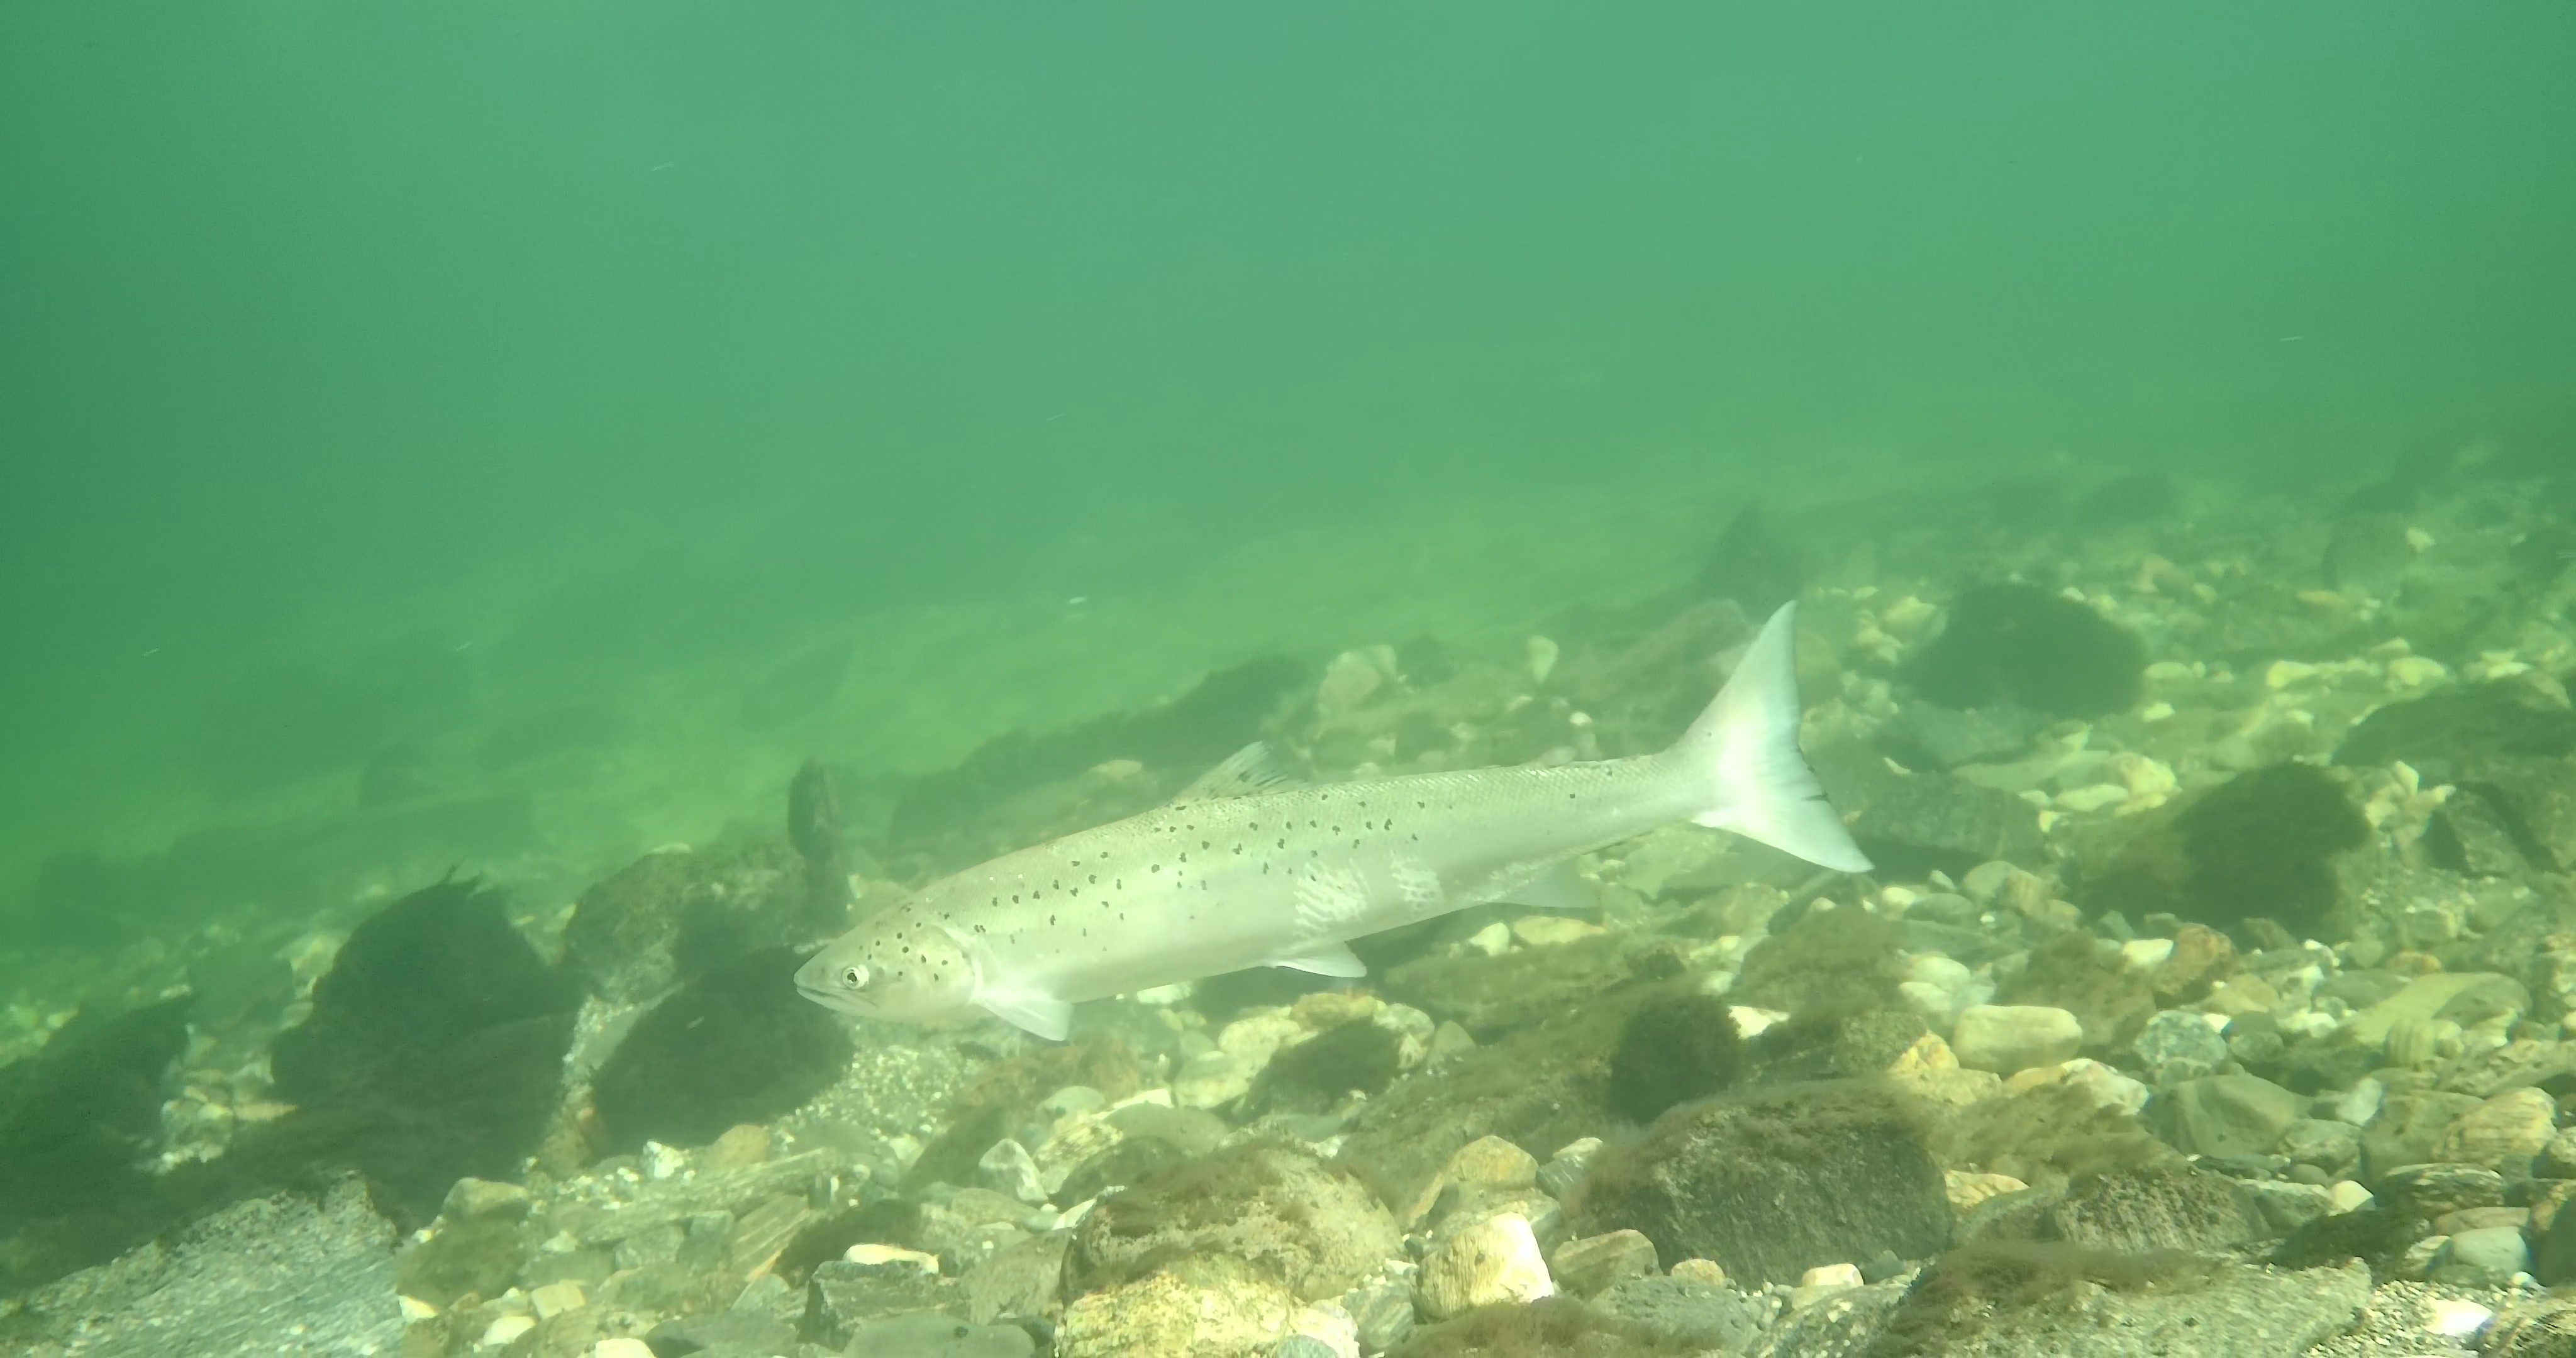salmon: (789, 598, 1876, 1044)
